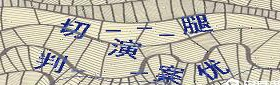chinese: (35, 46, 70, 79), (110, 35, 140, 60), (58, 19, 89, 42), (198, 56, 227, 80), (181, 16, 213, 34), (154, 65, 181, 85)
